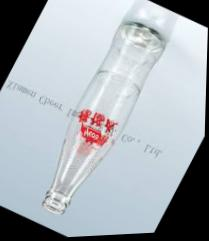glass: (43, 1, 175, 213)
